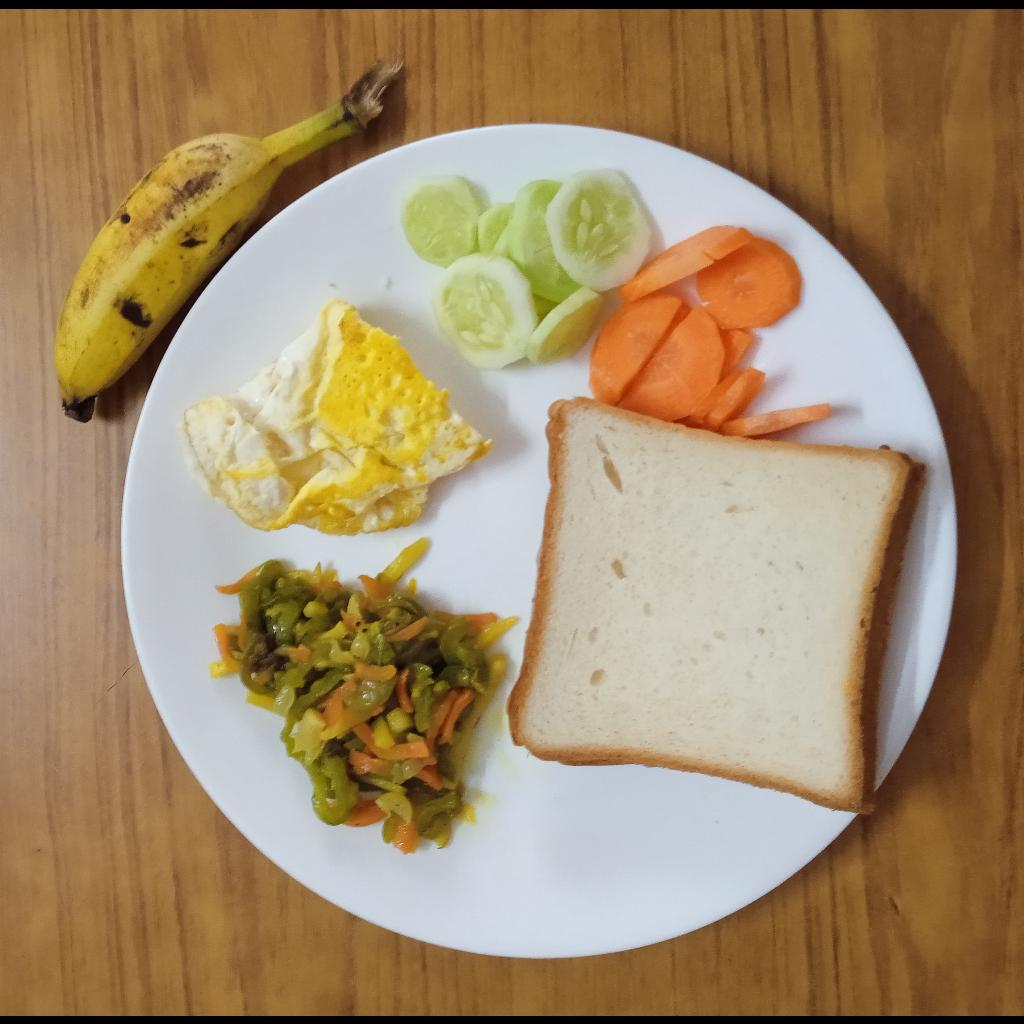banana: (56, 127, 302, 424)
bread: (504, 399, 923, 816)
carrot: (589, 223, 834, 437)
cucumber: (391, 165, 652, 374)
egg-poached: (174, 297, 493, 536)
vegetable: (211, 534, 520, 856)
